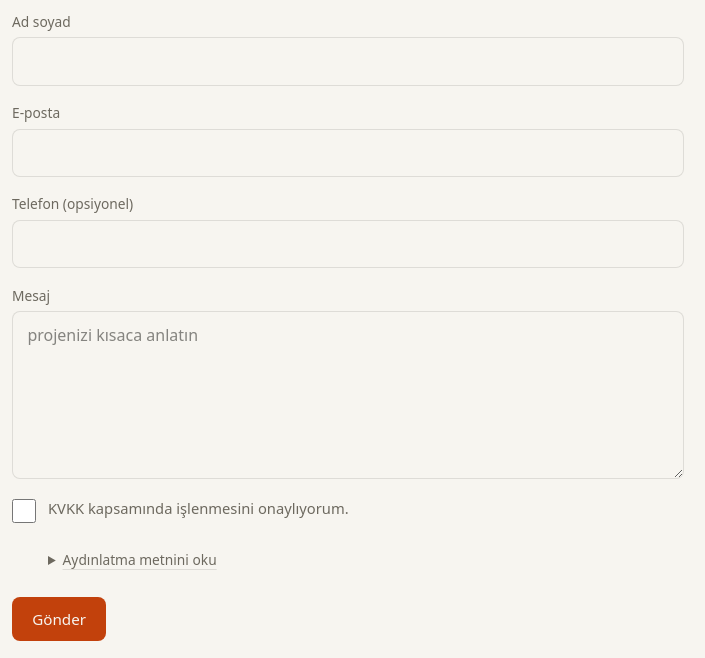
ContactForm › disables submit + sets aria-busy while the request is pending
The width and height of the screenshot is (705, 658).
Type "Ada Lovelace" into the field labelled "Ad soyad". click: (348, 62)
box: [12,37,684,86]
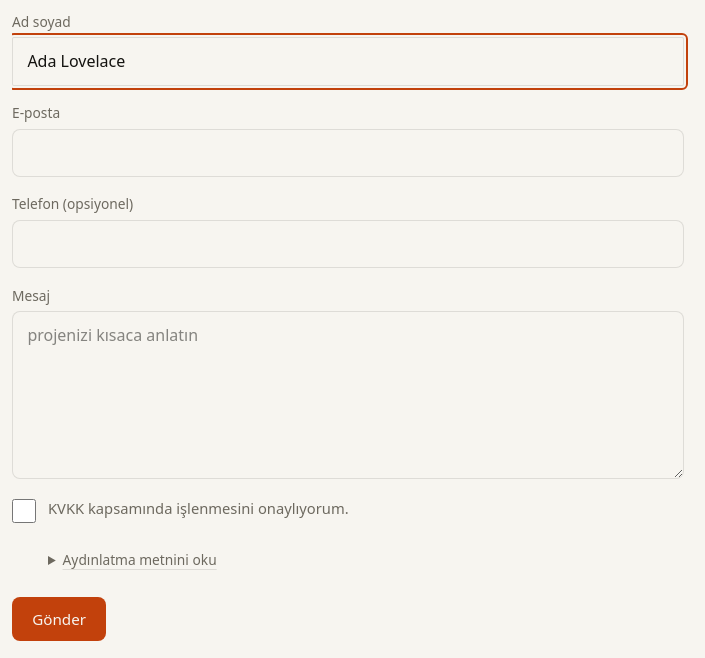
Type "ada@example.com" into the field labelled "E-posta". click: (348, 153)
box: [12,128,684,177]
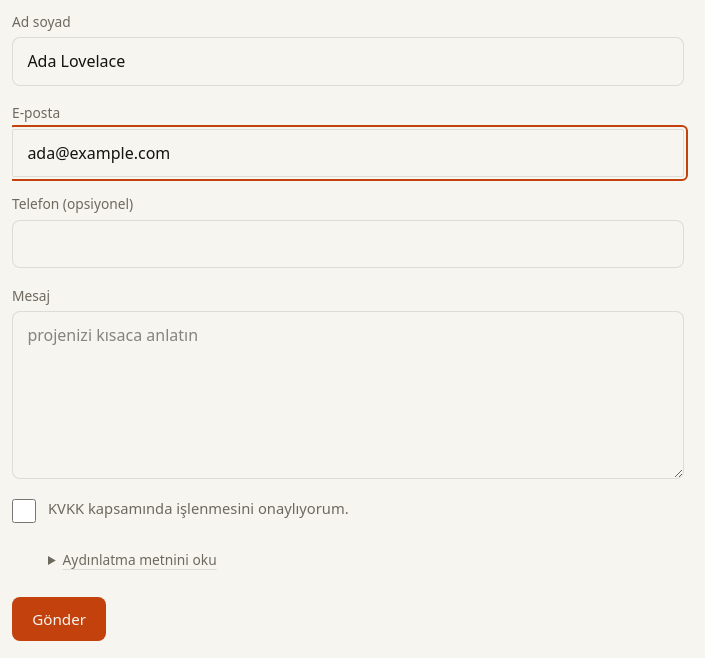
Type "Kurumsal web sitesi projesi." into the text box labelled "Mesaj". click: (348, 395)
box: [12,311,684,479]
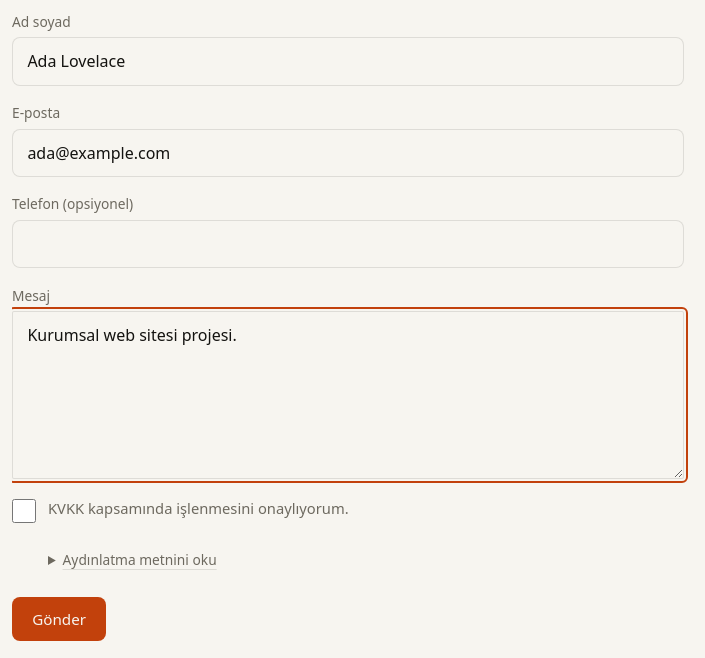
Click the checkbox. click: (24, 511)
box: [12,499,36,523]
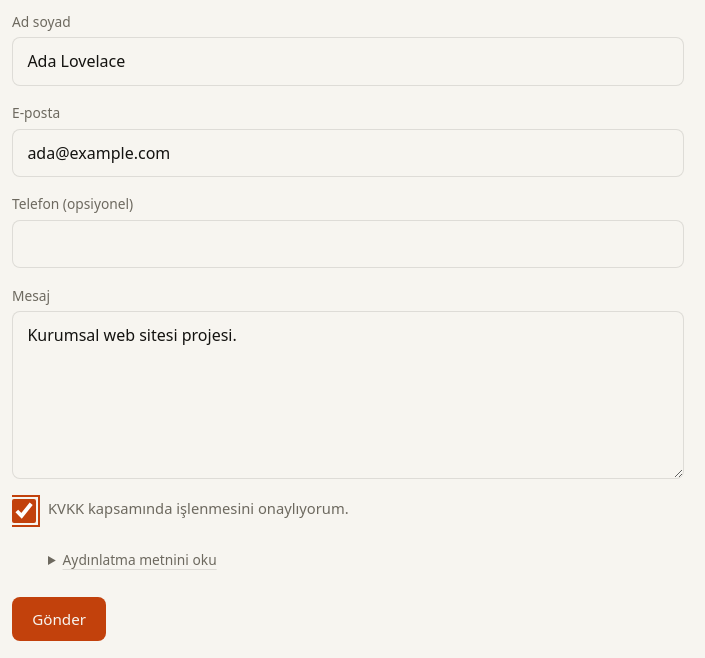
Click the button "Gönder". click: (59, 619)
box: [12,597,106,641]
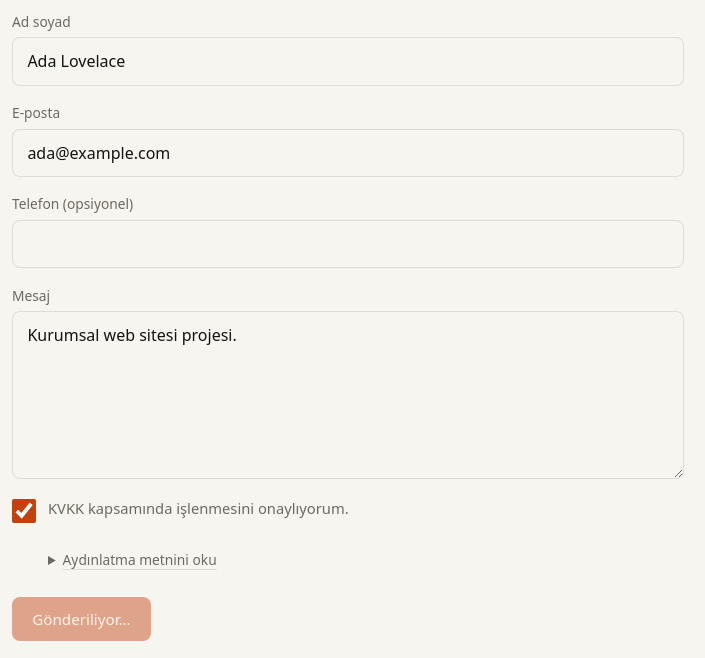
Now the button "Gönderiliyor…" is disabled, box [12,597,151,641]
